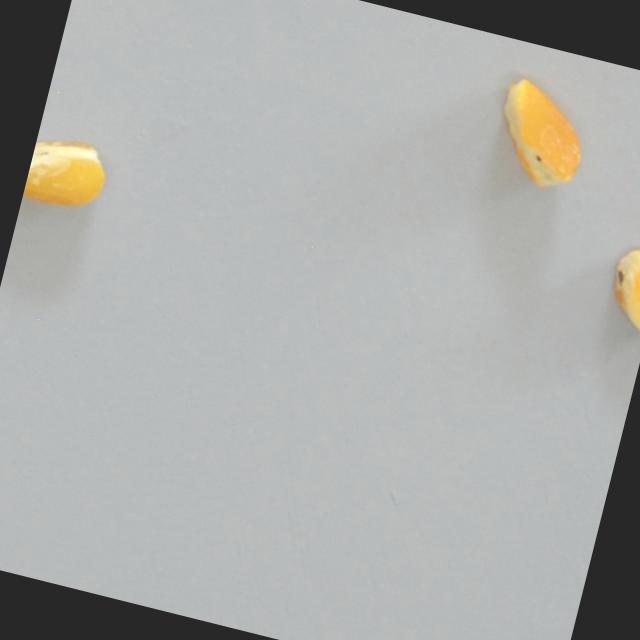dañado: (594, 239, 640, 353)
punto_negro: (468, 58, 614, 211), (13, 105, 128, 252)
